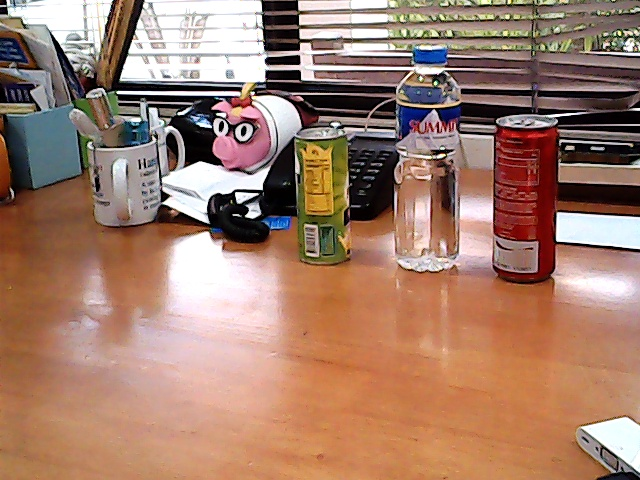Cola: (490, 107, 570, 286)
Pine Juice: (293, 121, 357, 266)
Summit Water: (388, 41, 470, 275)
